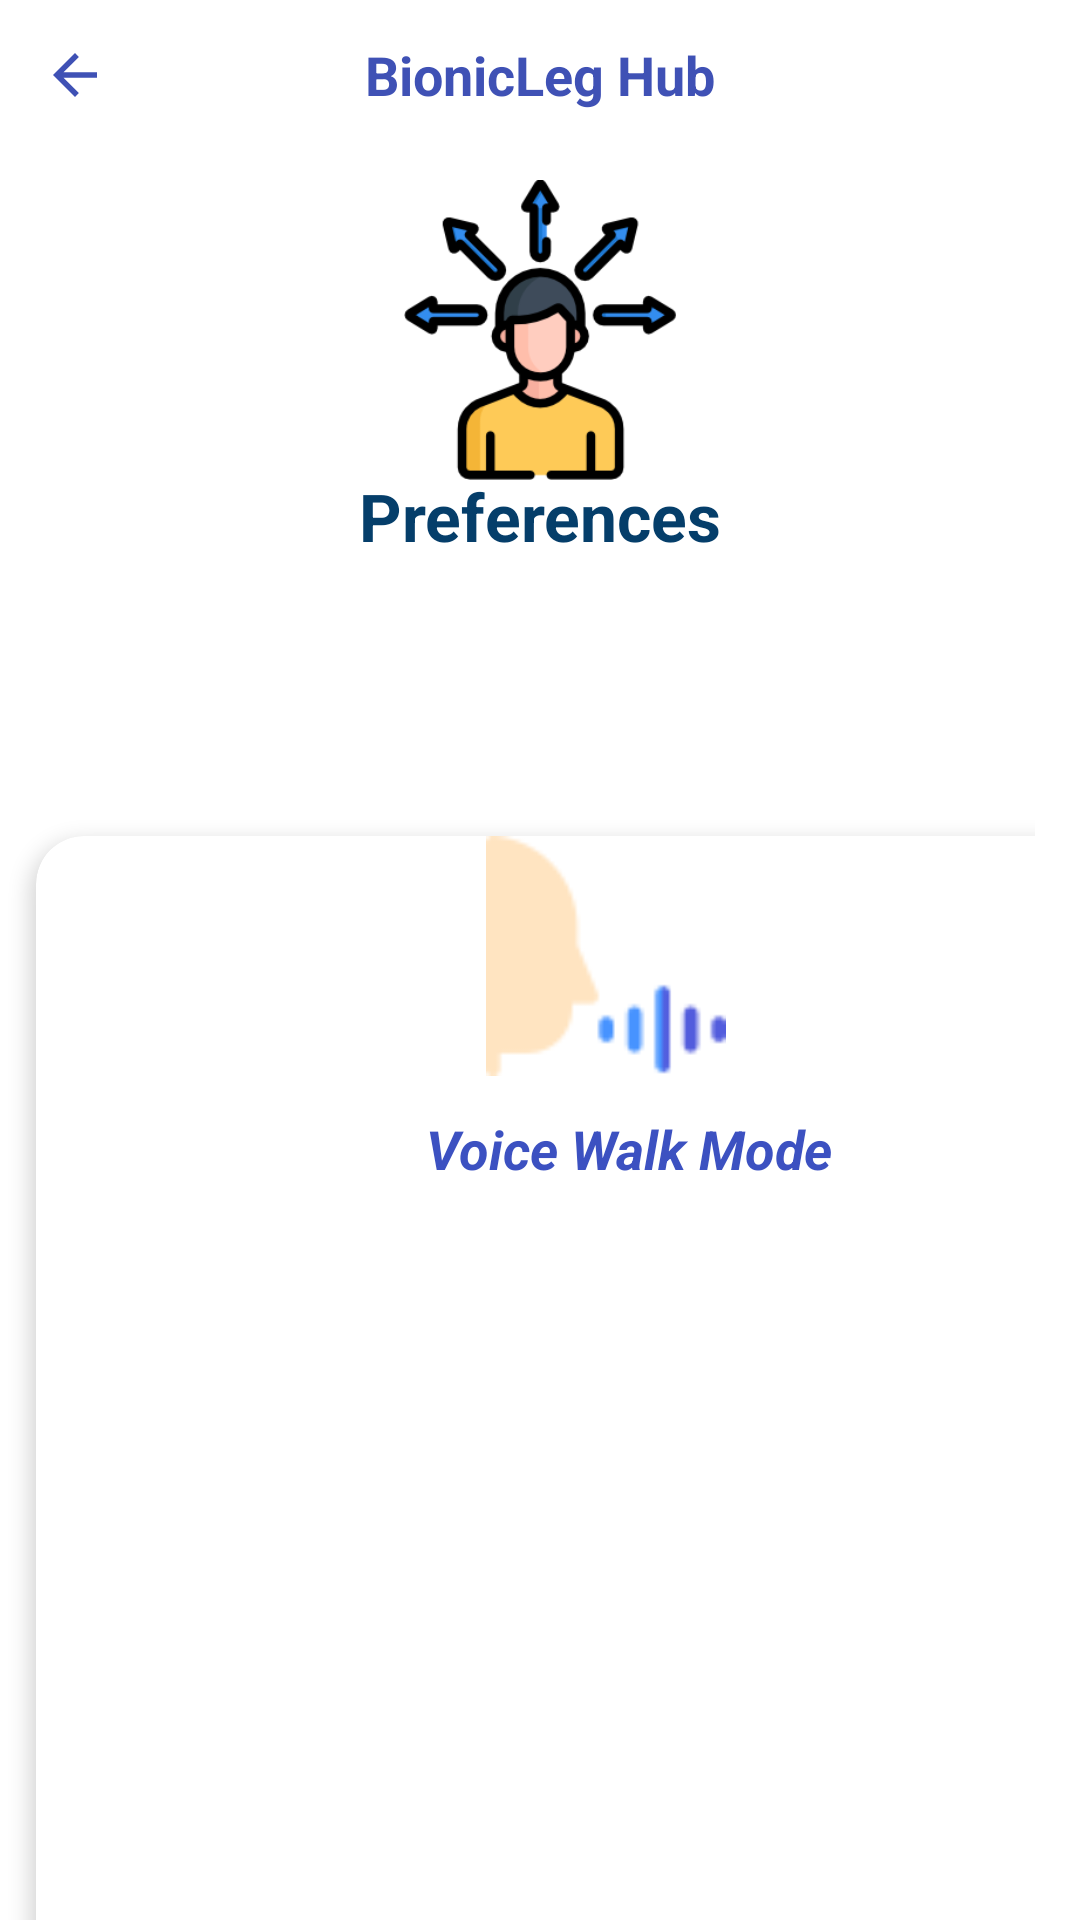

Where icons sit on this 1080px x 1920px app screen, as (x1, y1, x2, y2):
back: (53, 53, 97, 97)
choix: (404, 180, 676, 480)
